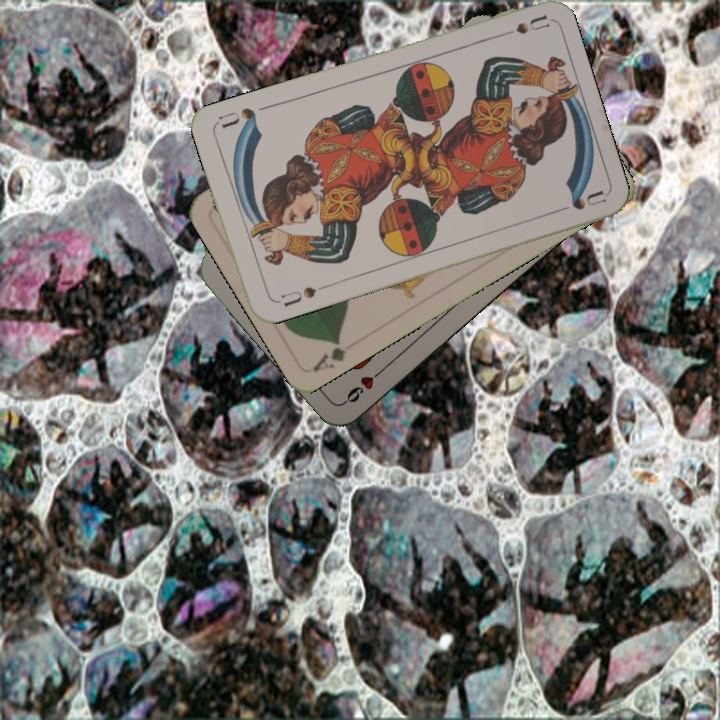GA: (309, 335, 349, 375)
H9: (341, 362, 389, 406)
SU: (491, 11, 550, 41), (271, 281, 329, 310)
